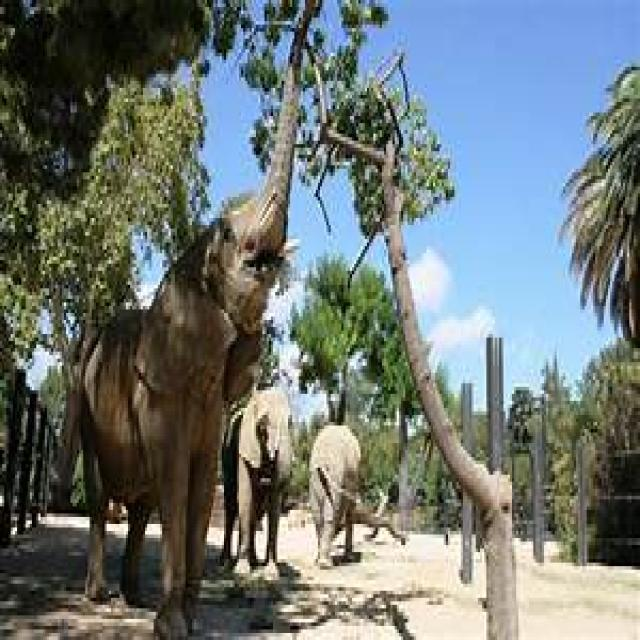elephant: (62, 176, 301, 640)
